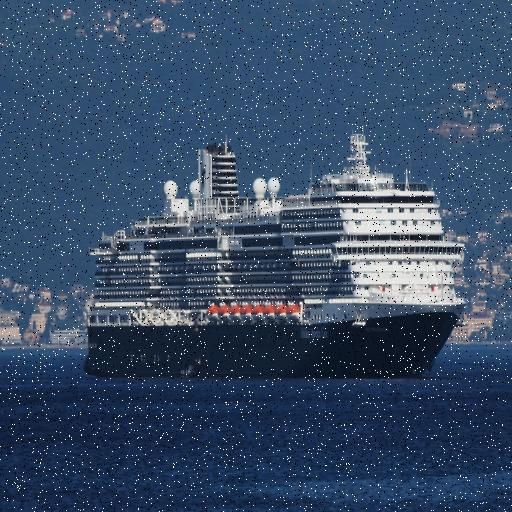cruises: (83, 127, 475, 387)
